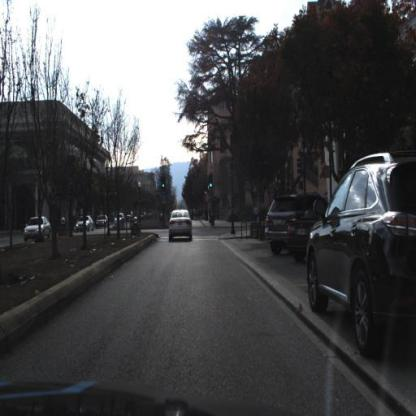car: (303, 148, 416, 368), (263, 193, 330, 261), (286, 192, 330, 265), (169, 209, 193, 243), (24, 216, 53, 243), (75, 214, 95, 233), (95, 213, 110, 231)
trafficLight-Green: (161, 174, 167, 194), (209, 173, 215, 191)
